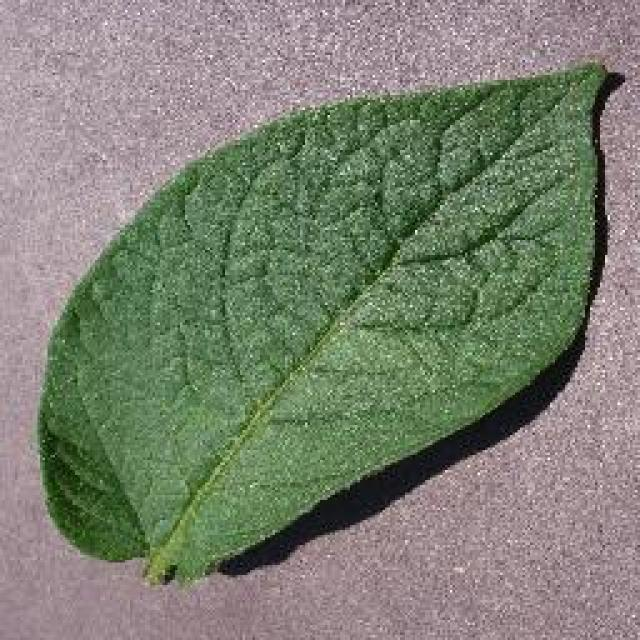Potato: (33, 58, 625, 588)
